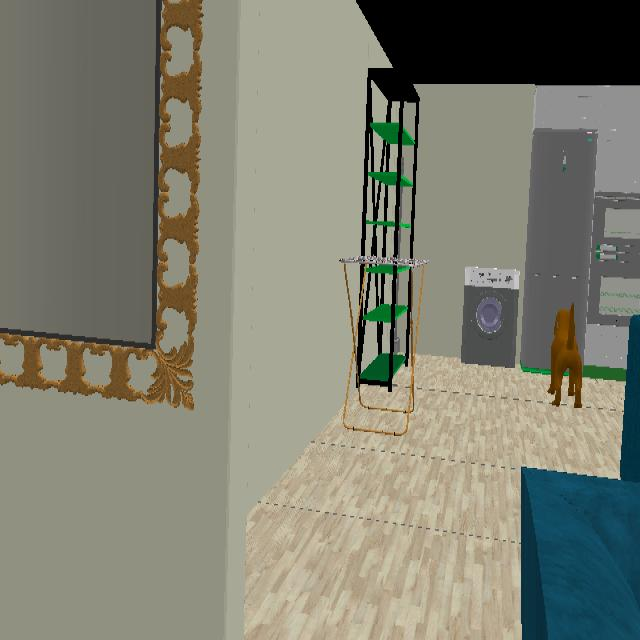cabinet: (534, 87, 640, 192)
fridge: (520, 128, 596, 368)
microwave: (592, 195, 640, 262)
oven: (588, 260, 640, 326)
shelf: (346, 68, 419, 391)
sofa: (521, 317, 640, 638)
